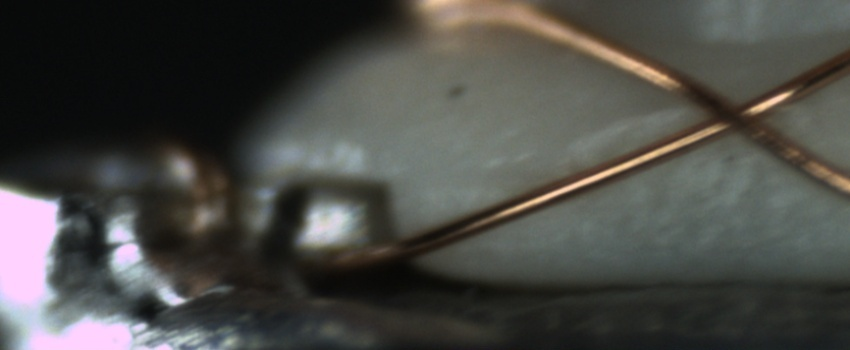CL: (669, 69, 801, 154)
DL: (420, 152, 580, 209)
TE: (148, 136, 239, 243)
